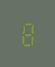eight: (19, 20, 34, 46)
